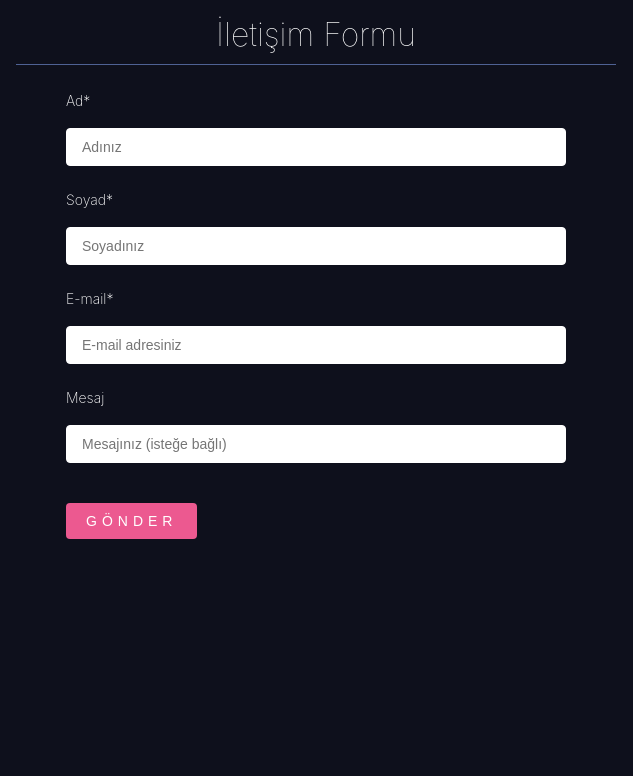
Scenario: [8] ad, soyad, email render ediliyor. mesaj bölümü doldurulmadığında hata mesajı render edilmiyor.
This screenshot has width=633, height=776.
Type "Ömer Sabri" into the field with test id "name-input" at (316, 147), box [66,128,566,166]
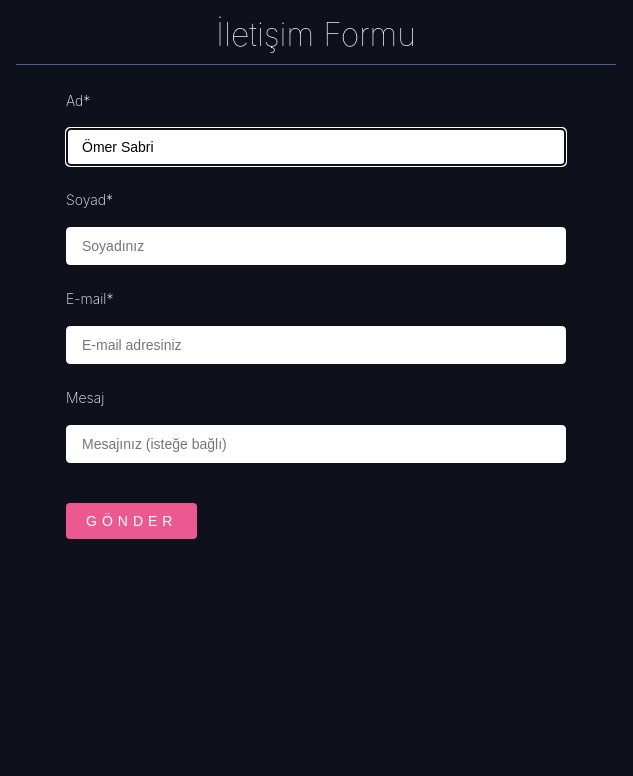
Type "Balcı" into the field with test id "lastName-input" at (316, 246), box [66,227,566,265]
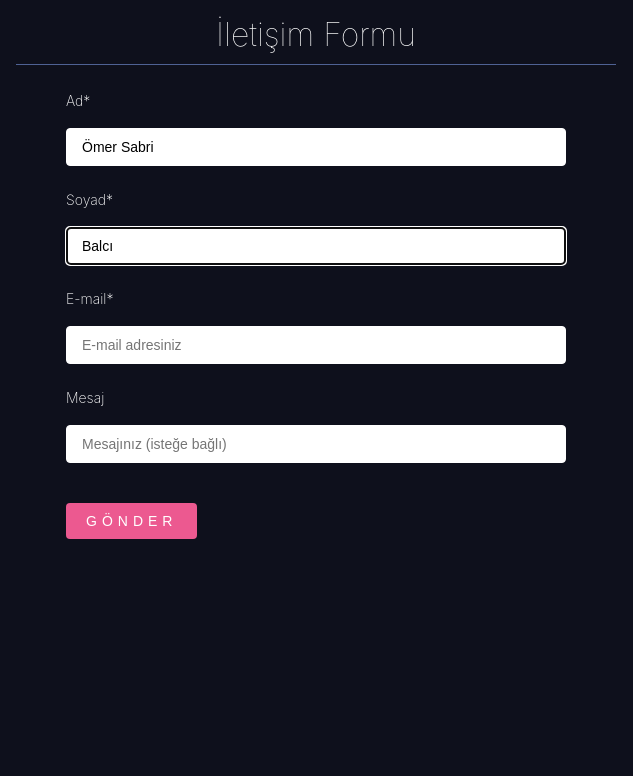
Type "omersabribalci@gmail.com" into the field with test id "email-input" at (316, 345), box [66,326,566,364]
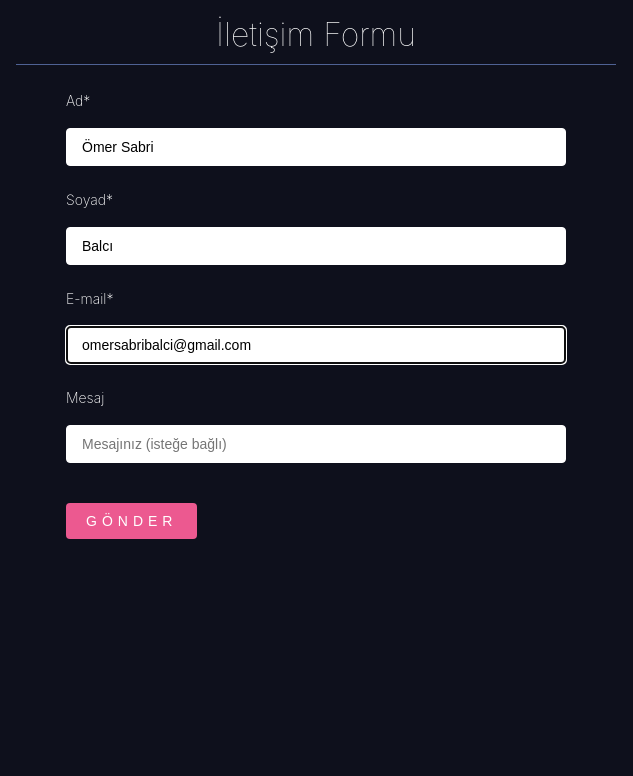
Click the button at (132, 521), box [66,503,198,539]
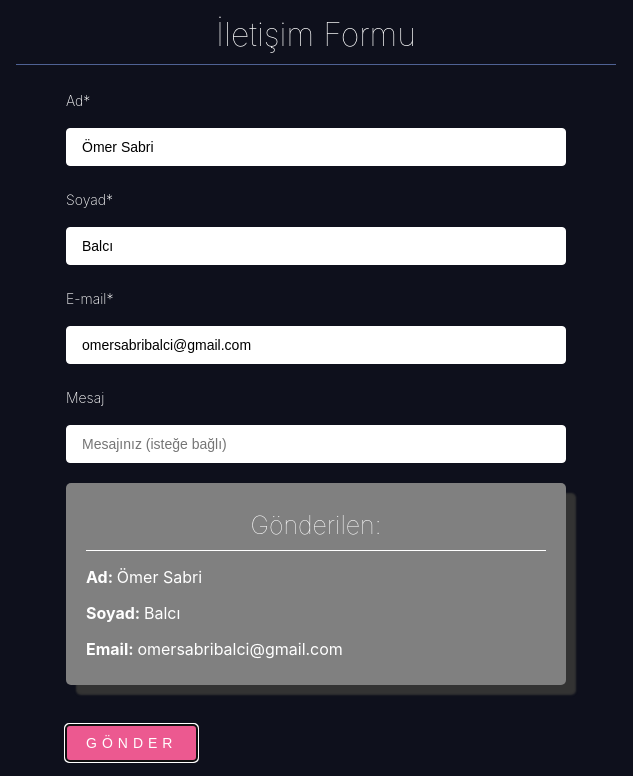
Result: the element with test id "firstnameDisplay" is shown at [86,567,202,587]
Result: the element with test id "lastnameDisplay" is shown at [86,603,180,623]
Result: the element with test id "emailDisplay" is shown at [86,639,343,659]
